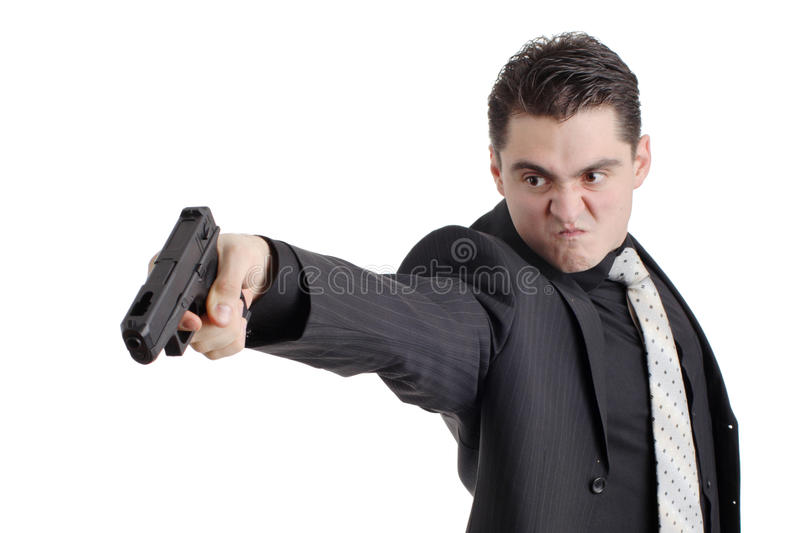angry: (505, 137, 630, 273)
